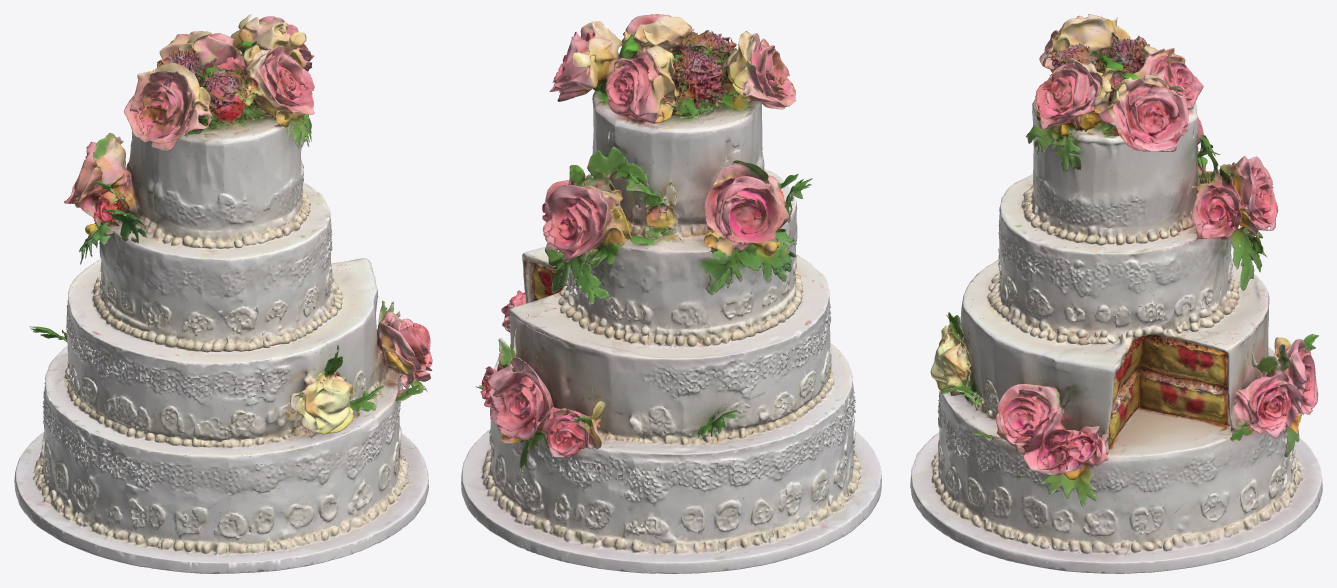
File: compressedh.glb
3 views of the same model, side by side, from view 1: azimuth 30°, elevation 25°; view 2: azimuth 150°, elevation 25°; view 3: azimuth 270°, elevation 25° (orthographic). The views are drawn at different scales.
Parts seen in each view (by area): view 1: Object_4, Object_6, Object_5, Object_7, Object_9, Object_8, Object_10; view 2: Object_4, Object_5, Object_6, Object_7, Object_8, Object_9, Object_10; view 3: Object_5, Object_4, Object_6, Object_7, Object_8, Object_9, Object_10.
Part boxes in pixels (<box>): Object_4: <box>14,17,432,573</box>; Object_6: <box>31,25,432,570</box>; Object_5: <box>17,15,430,557</box>; Object_7: <box>20,17,430,562</box>; Object_9: <box>14,14,431,571</box>; Object_8: <box>16,23,430,567</box>; Object_10: <box>16,16,431,573</box>; Object_4: <box>469,20,881,565</box>; Object_5: <box>461,14,864,573</box>; Object_6: <box>480,24,874,571</box>; Object_7: <box>467,15,861,570</box>; Object_8: <box>469,14,880,573</box>; Object_9: <box>464,14,879,573</box>; Object_10: <box>462,16,871,573</box>; Object_5: <box>925,14,1315,573</box>; Object_4: <box>910,26,1322,562</box>; Object_6: <box>910,17,1320,554</box>; Object_7: <box>920,17,1322,556</box>; Object_8: <box>910,27,1318,573</box>; Object_9: <box>915,15,1321,573</box>; Object_10: <box>911,17,1322,573</box>.
Bounding box in the file's own units: 1.69 × 1.99 × 1.68.
Materials: 1 (1 with a texture image).
